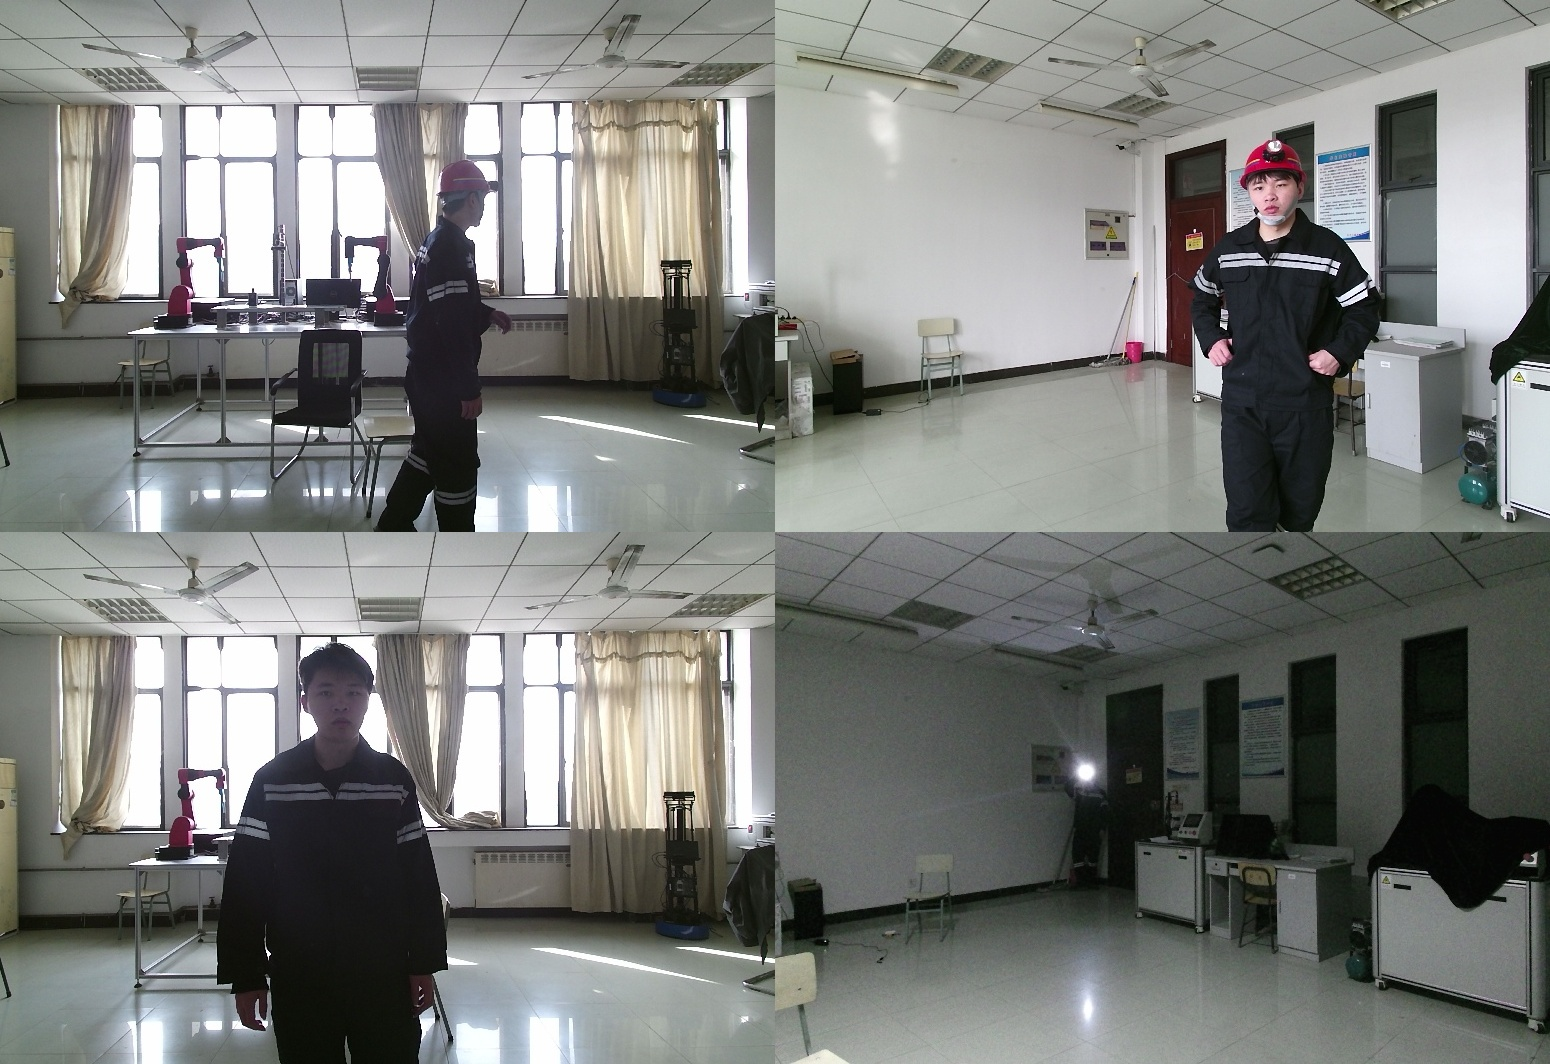person: (231, 645, 462, 1064), (1191, 132, 1406, 532), (382, 161, 525, 532), (1061, 768, 1108, 887)
